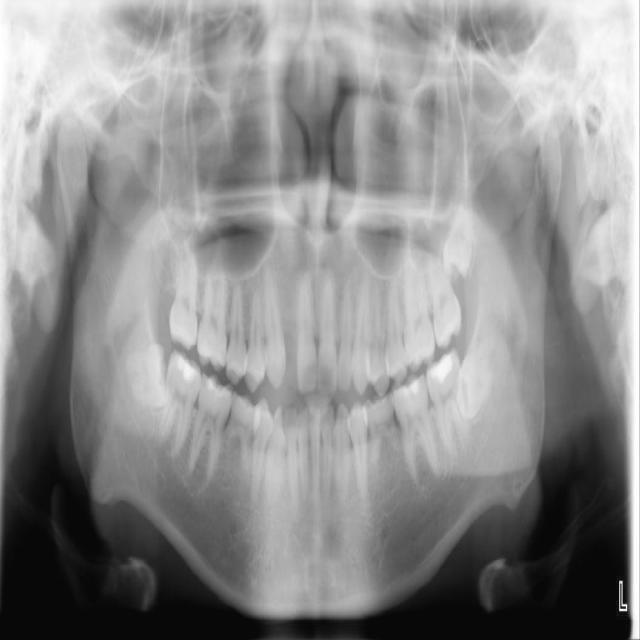Filling: (429, 353, 454, 383), (394, 379, 420, 403), (173, 357, 198, 381), (204, 376, 231, 396)
impacted tooth: (441, 183, 480, 283), (458, 327, 499, 420), (121, 343, 170, 410)
